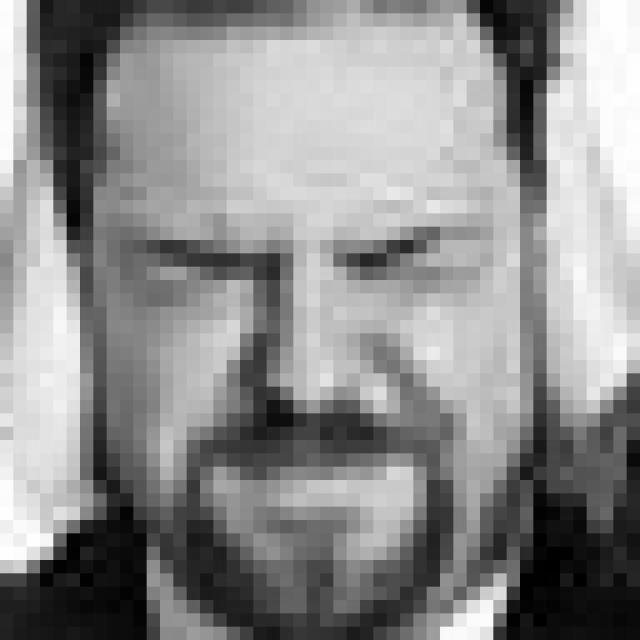real: (70, 24, 560, 608), (140, 196, 491, 305)
